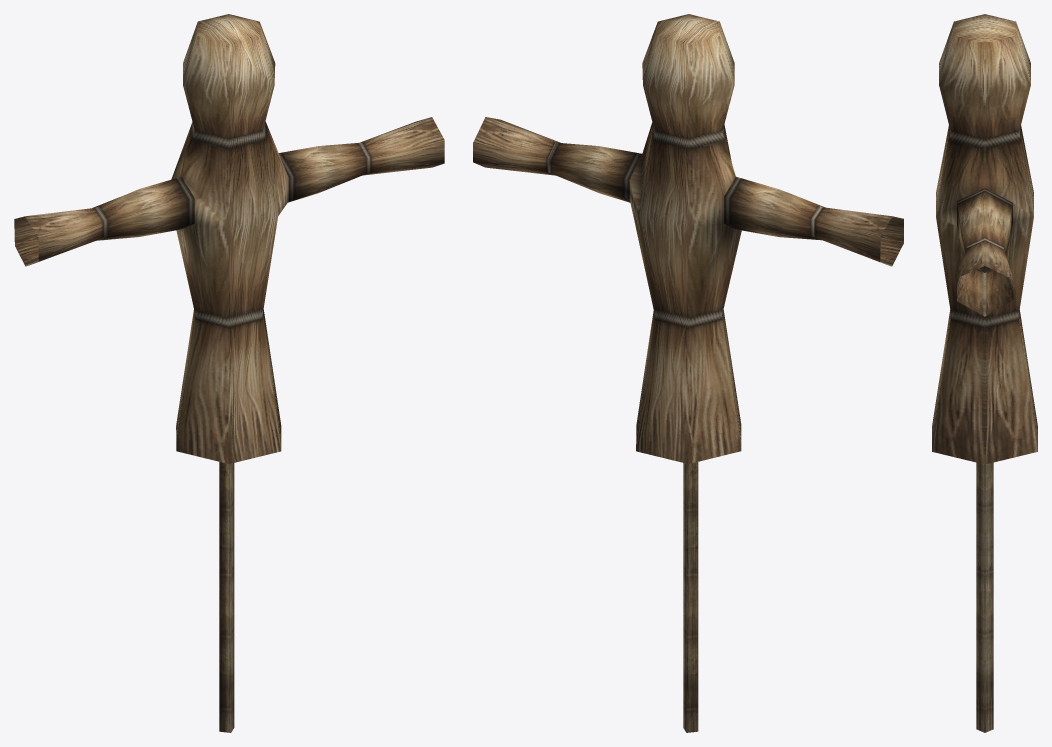
The model's file is ren.obj.
3 renders of one model, left to right at view 1: azimuth 30°, elevation 25°; view 2: azimuth 150°, elevation 25°; view 3: azimuth 270°, elevation 25°, orthographic.
Visible parts, largest first — view 1: bsth_bc_pj_004; view 2: bsth_bc_pj_004; view 3: bsth_bc_pj_004.
Boxes of the visible parts, box(x1,y1,x2,y2) form: bsth_bc_pj_004: box(14, 14, 444, 732); bsth_bc_pj_004: box(473, 14, 903, 732); bsth_bc_pj_004: box(932, 14, 1037, 732).
Size of the model in its own units: 6.05 by 10.06 by 1.36.
Materials: 1 (1 with a texture image).
